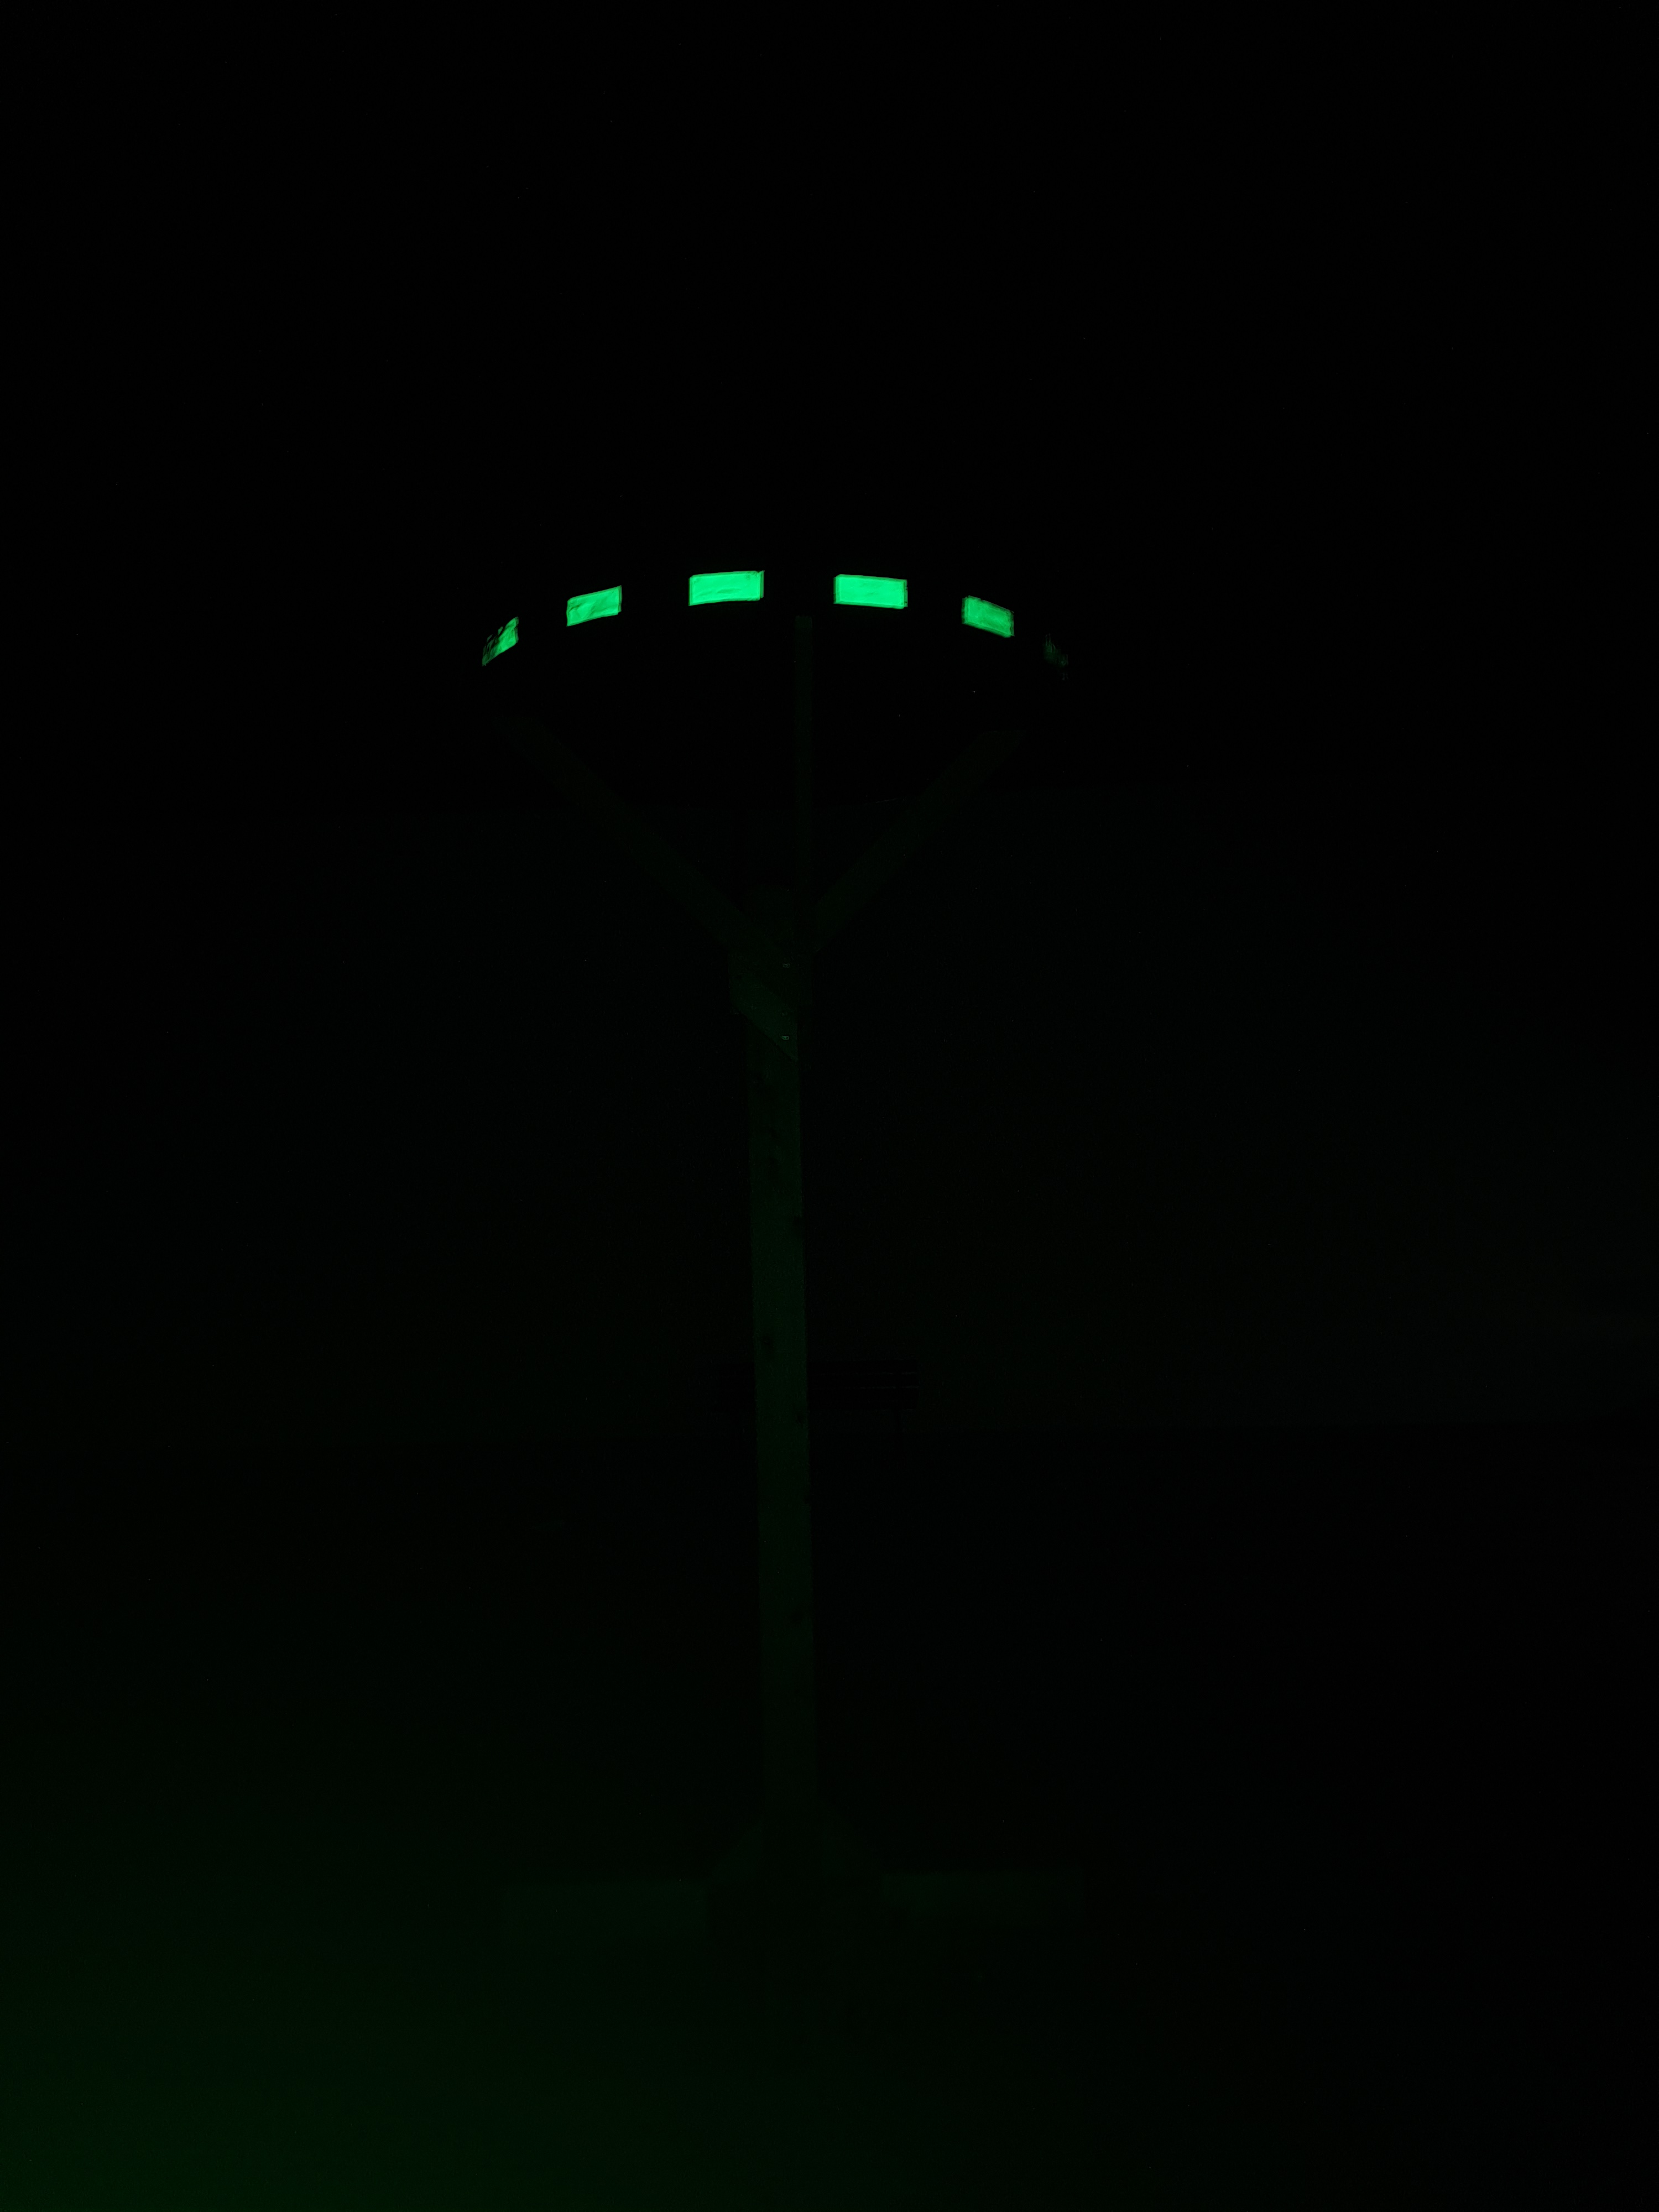hoop: (479, 564, 1023, 672)
